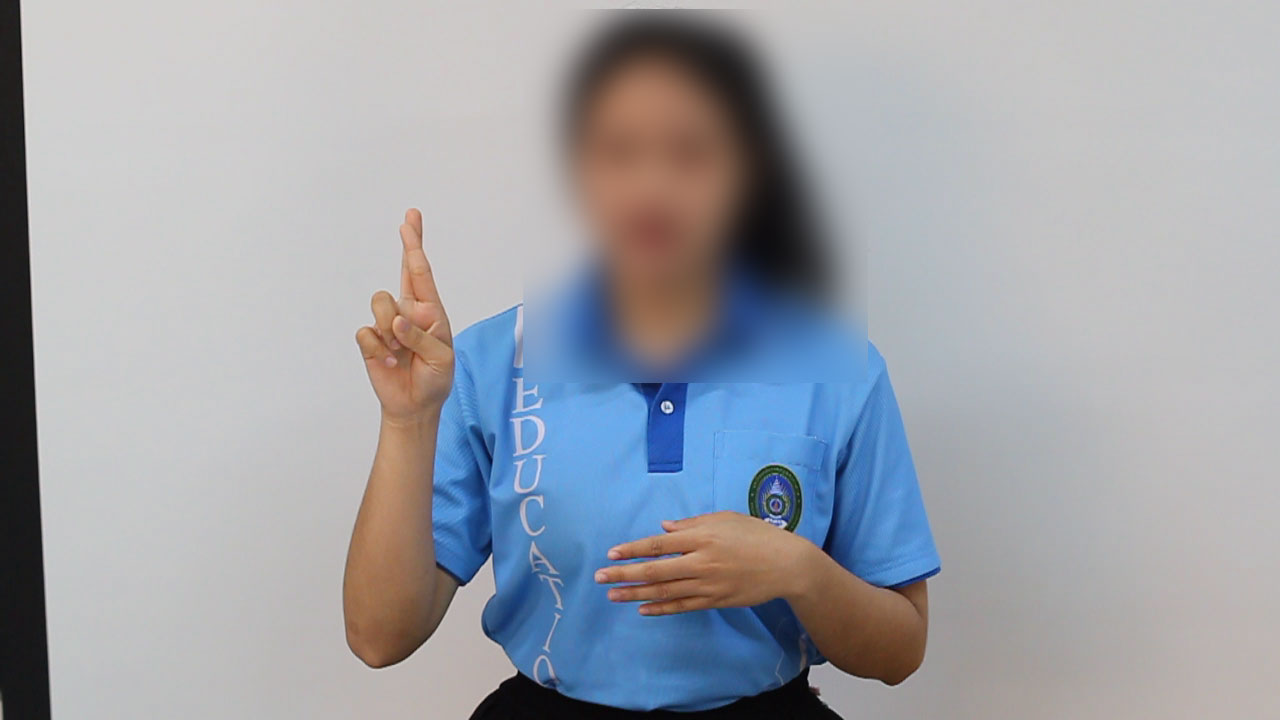rao: (346, 201, 477, 447)
